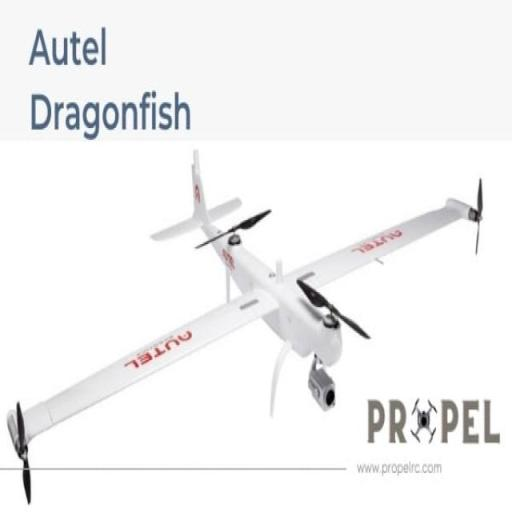uav: (7, 151, 487, 482)
